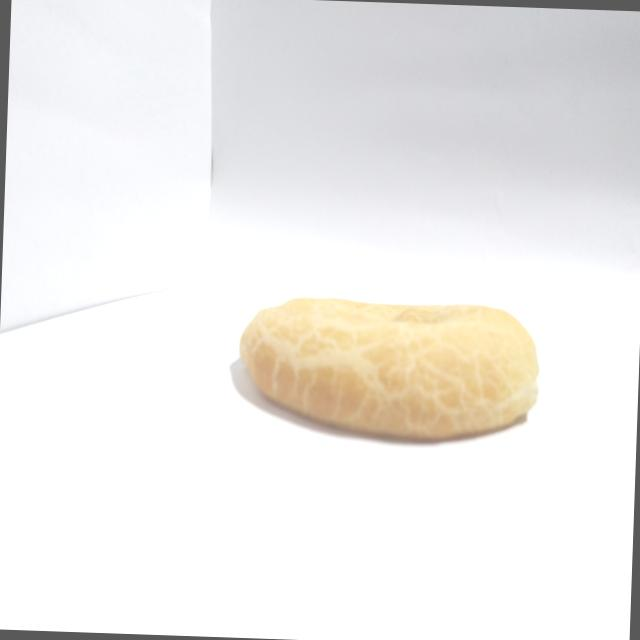Chipa: (228, 276, 554, 466)
